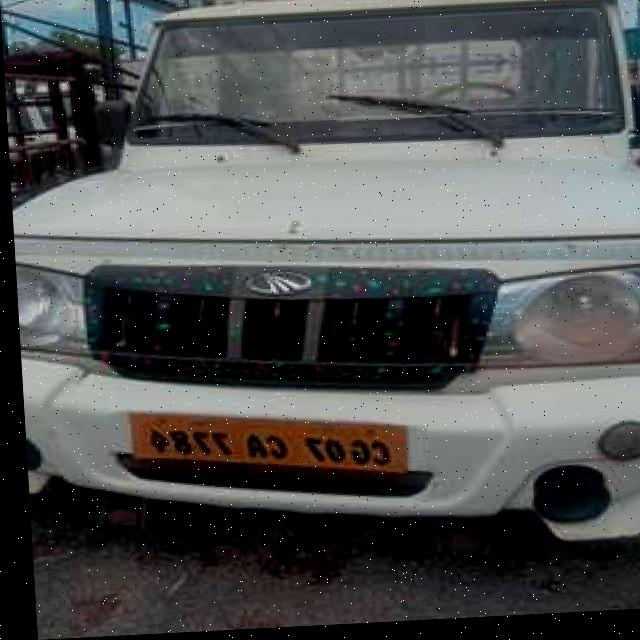plate: (121, 400, 404, 489)
